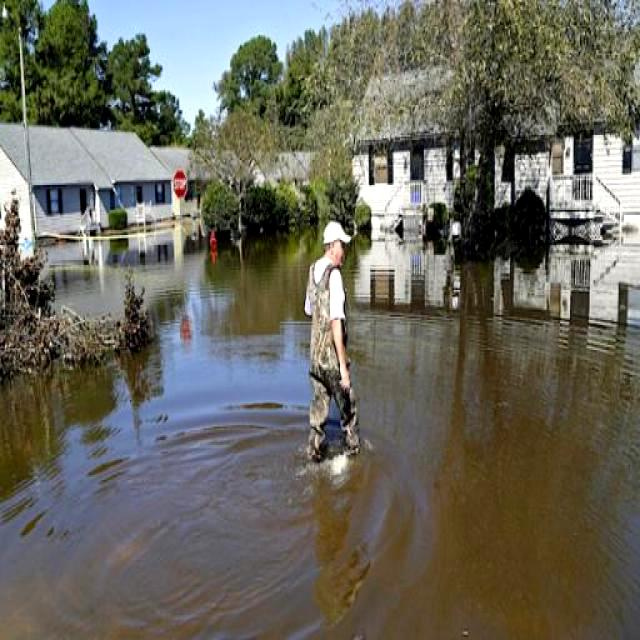civilian: (281, 207, 391, 485)
